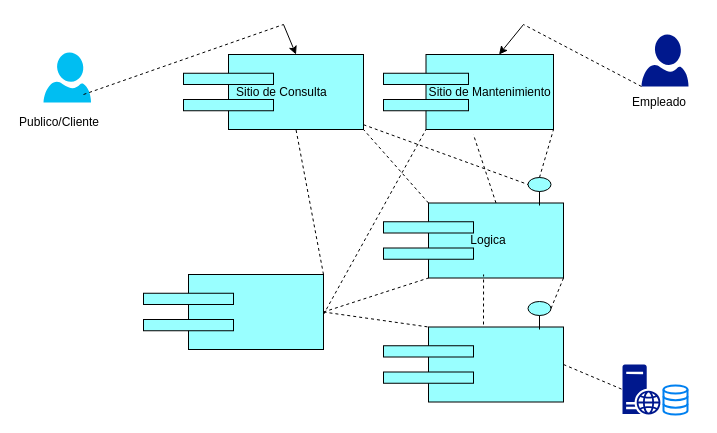
This 717x433 diagram has some shape labels left out. The shapes that lost their labels are listed below. From the top down, each one's centre as x and y in pixels, then its label:
At pixel 233 312: "Entidades Compartidas".
At pixel 473 364: "Persistencia".
